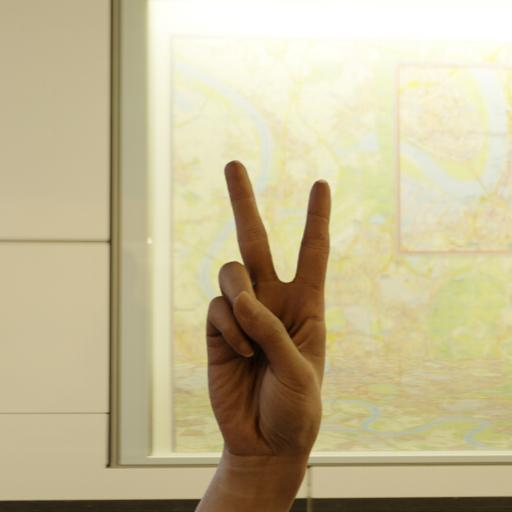V: (166, 134, 394, 472)
